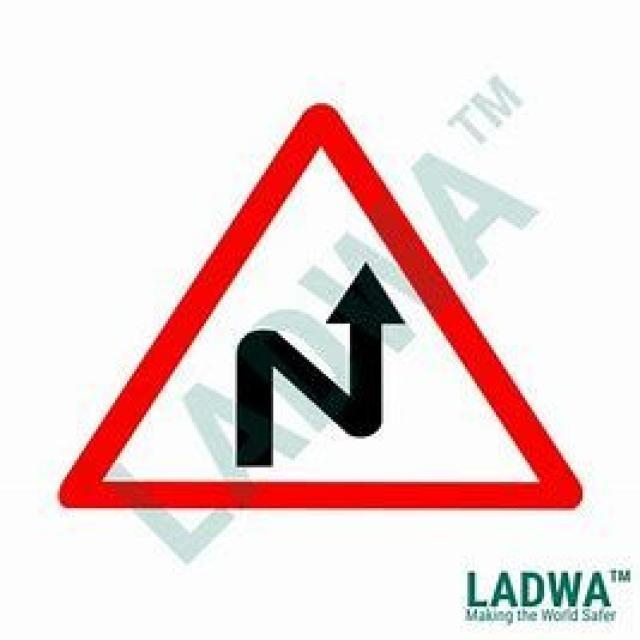right reverse bend: (50, 95, 581, 512)
